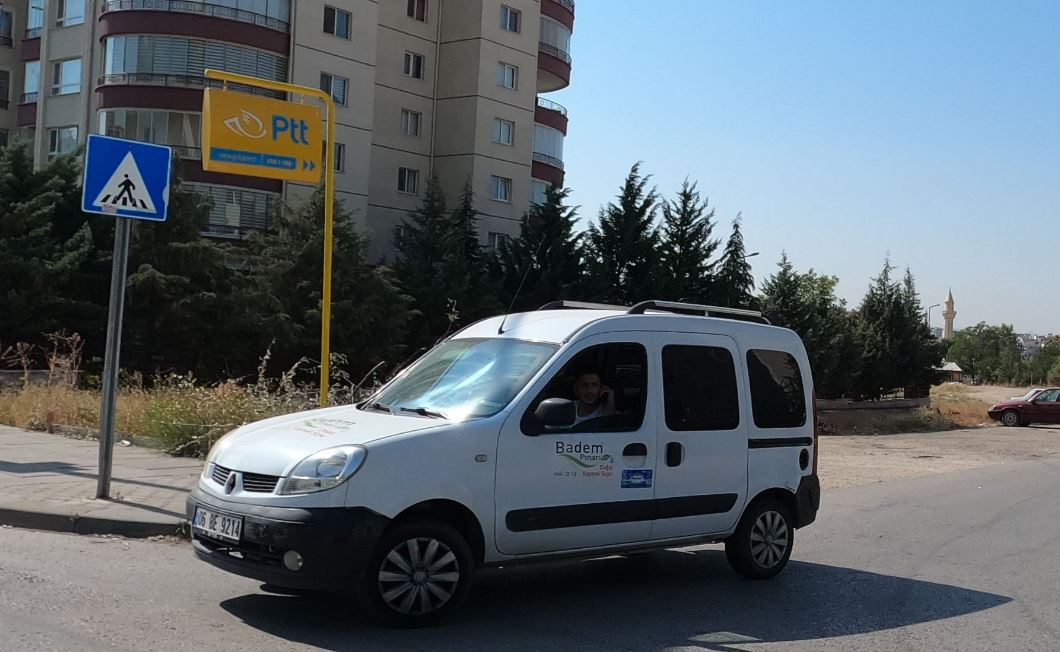Yaya Gecidi: (90, 143, 169, 214)
